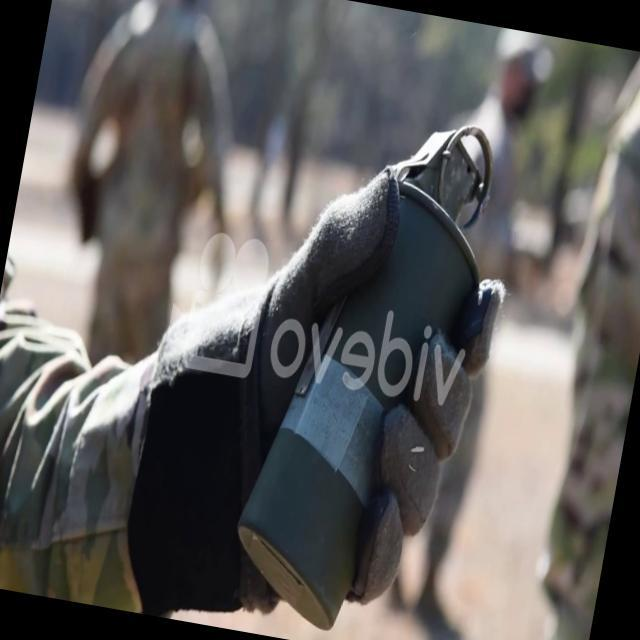grenade: (222, 95, 517, 640)
